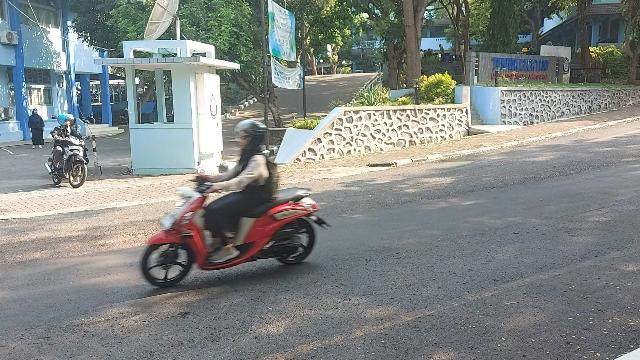helm: (235, 122, 267, 151), (59, 115, 72, 129)
motor: (143, 174, 334, 291), (46, 136, 91, 189)
